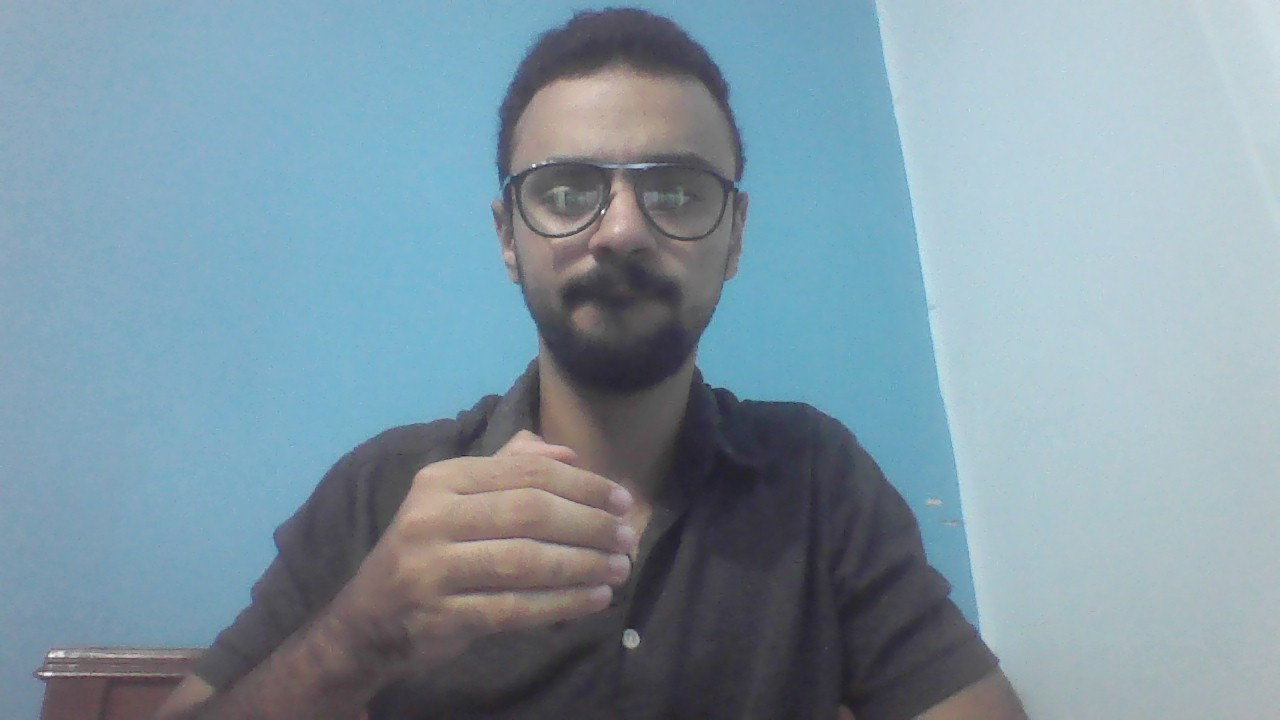drink: (343, 432, 639, 669)
